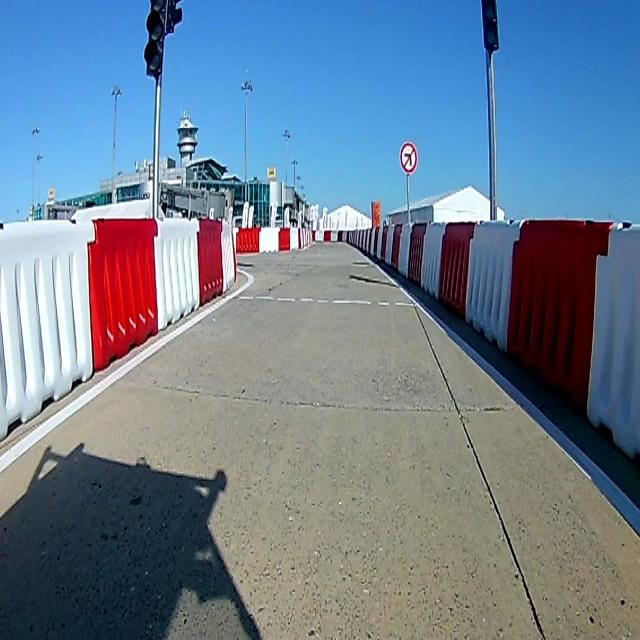soladonulmez: (399, 142, 417, 174)
